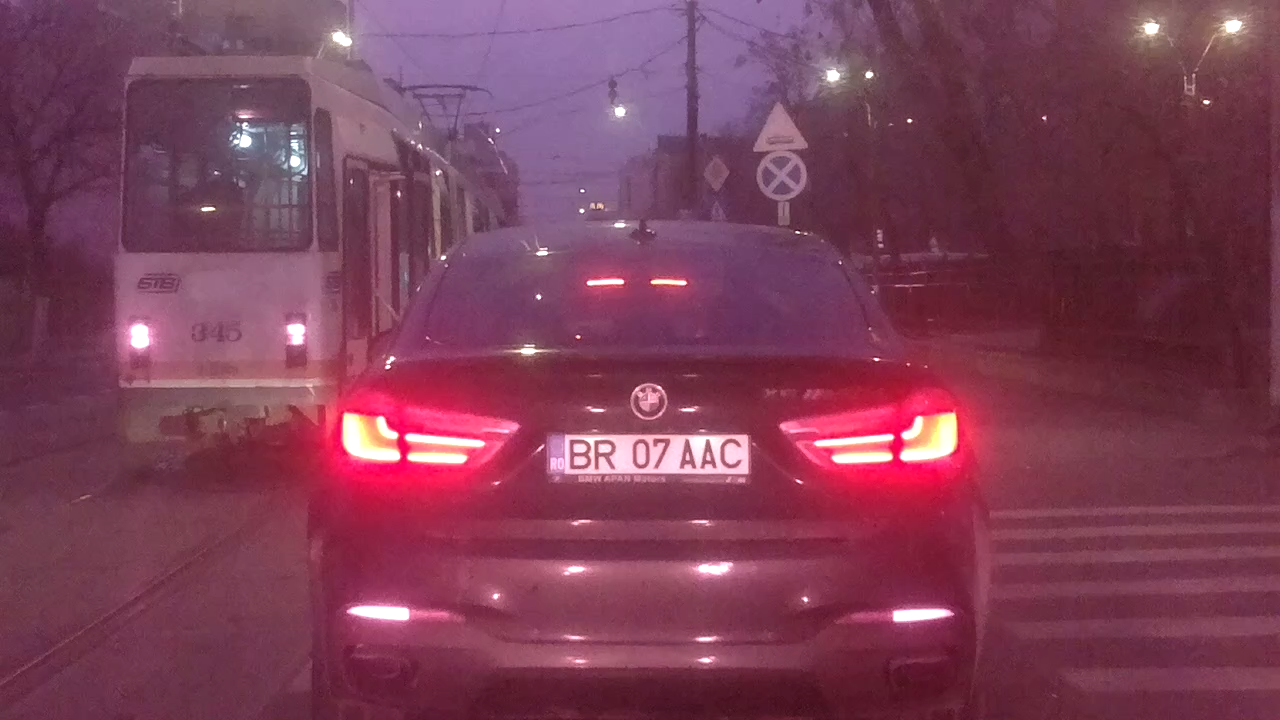license-plate: (541, 429, 752, 477)
